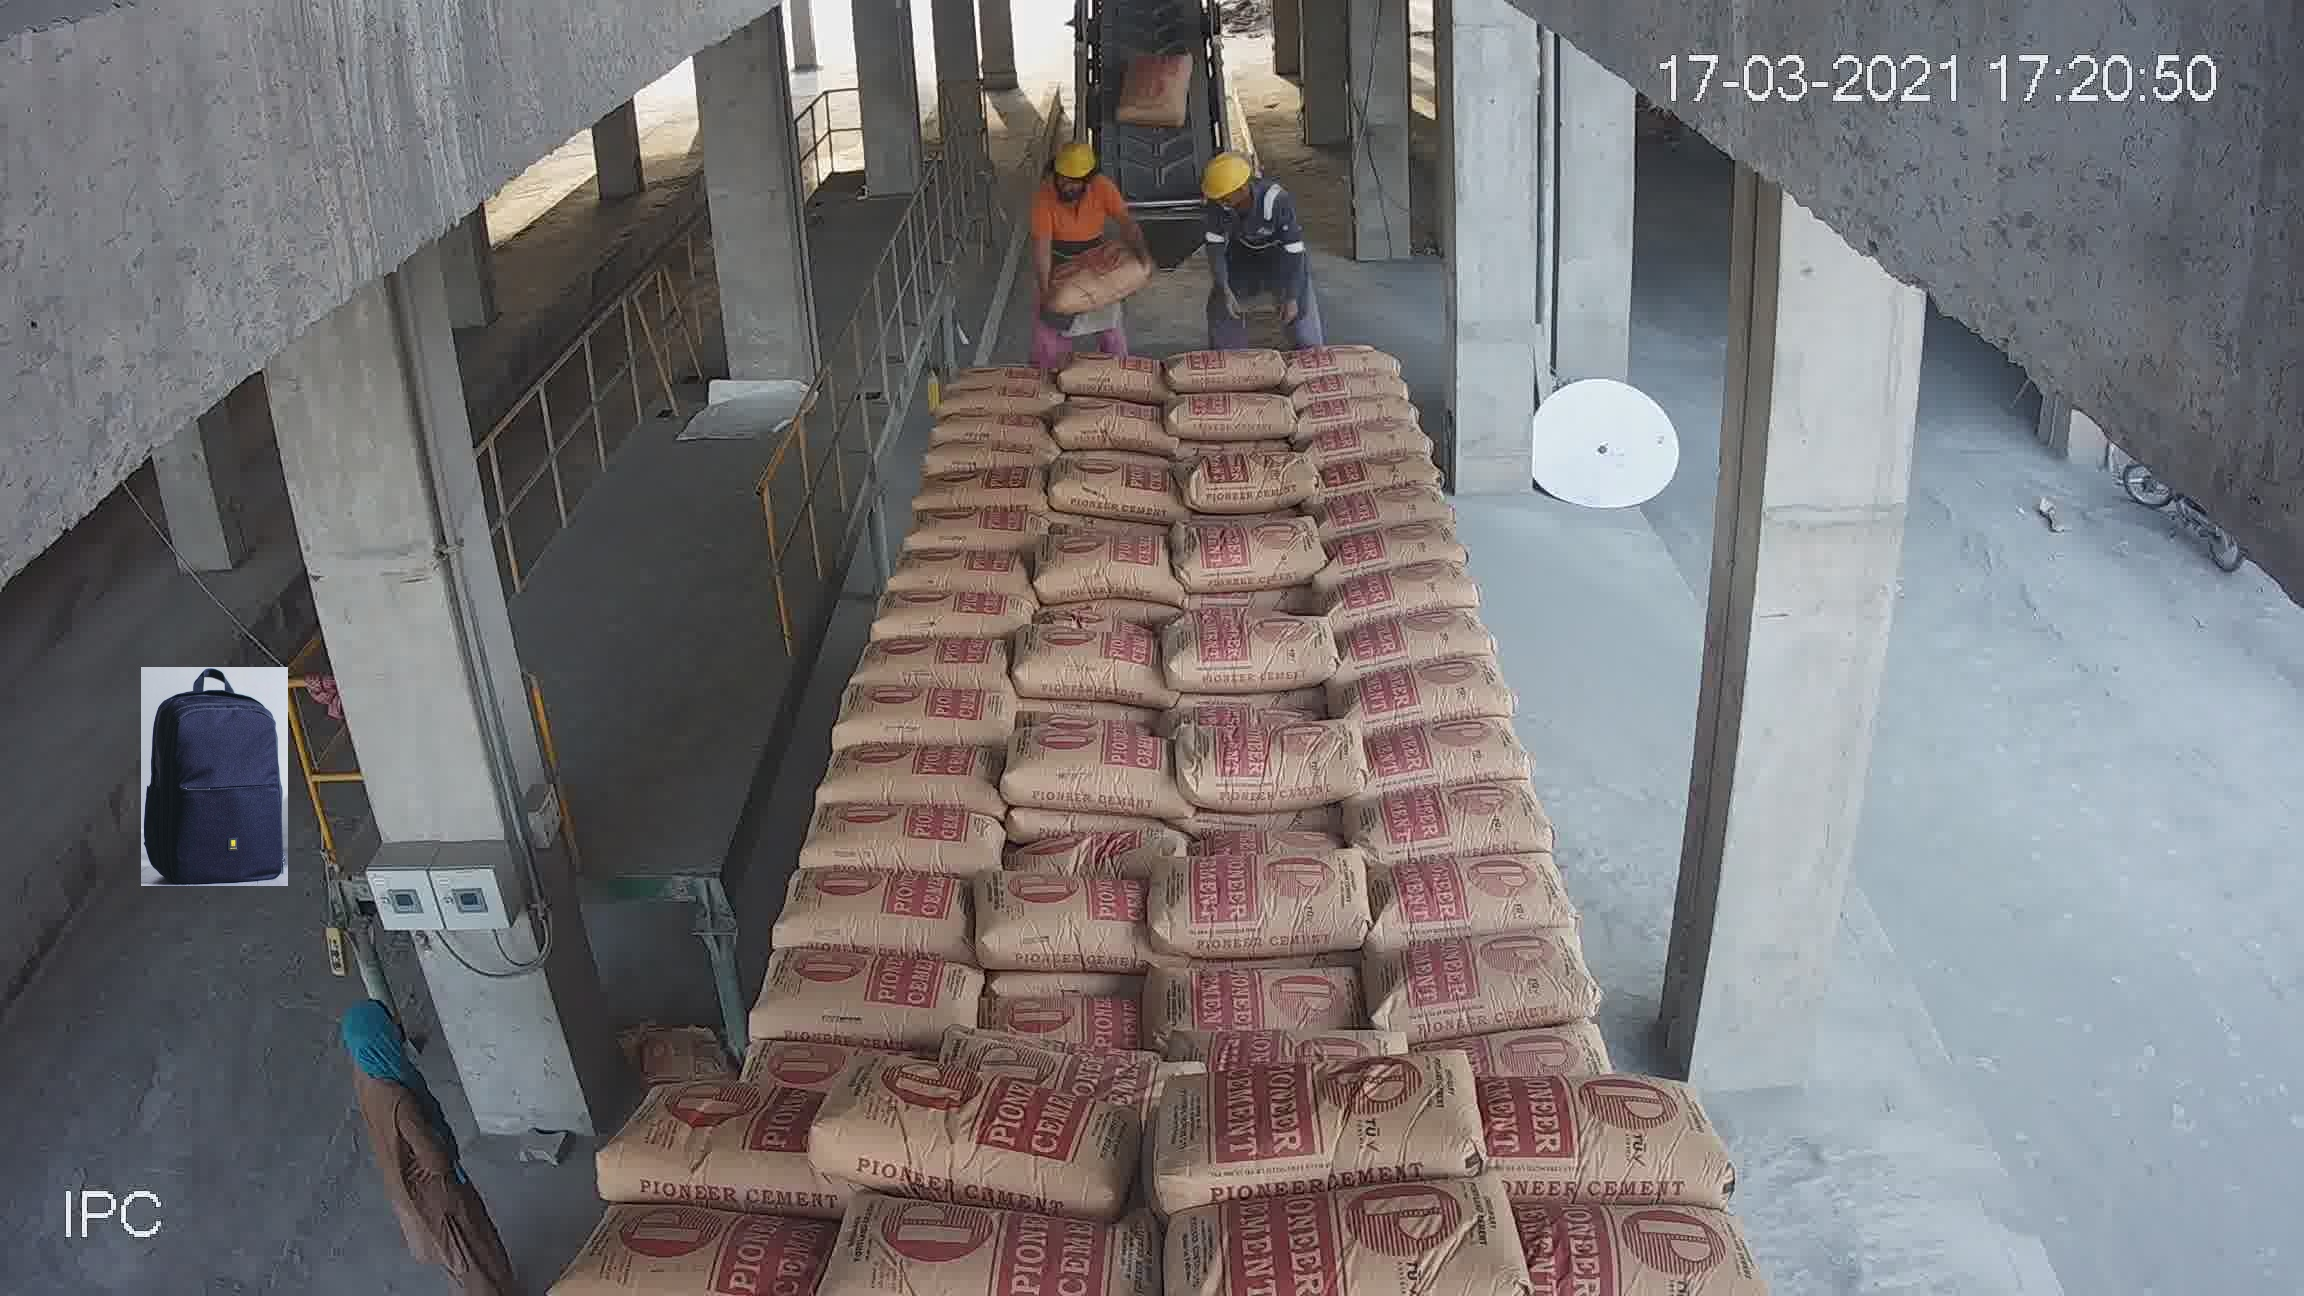bag: (904, 627, 1117, 745)
bag_h: (1114, 938, 1457, 1101), (790, 1055, 1185, 1196), (1169, 1052, 1492, 1201), (1133, 812, 1465, 954), (851, 961, 1161, 1073), (1484, 1065, 1742, 1198), (1160, 1188, 1514, 1285), (834, 1196, 1188, 1290), (513, 1196, 836, 1296), (642, 956, 892, 1084), (597, 1060, 831, 1196), (891, 829, 1149, 948), (1449, 938, 1698, 1057), (1508, 1199, 1764, 1296), (673, 866, 907, 968), (1434, 832, 1639, 946), (1147, 779, 1402, 869), (1340, 646, 1510, 729), (1413, 794, 1598, 869), (1351, 704, 1541, 775), (731, 820, 919, 885), (1364, 766, 1546, 826), (1359, 548, 1492, 623), (793, 726, 919, 805), (1361, 609, 1497, 676), (1347, 498, 1476, 559), (968, 817, 1139, 850), (1367, 472, 1456, 529), (1380, 451, 1453, 503), (1347, 381, 1421, 427), (1359, 424, 1435, 464), (1332, 350, 1415, 377), (1320, 326, 1389, 353)
belt: (1003, 2, 1310, 574)
